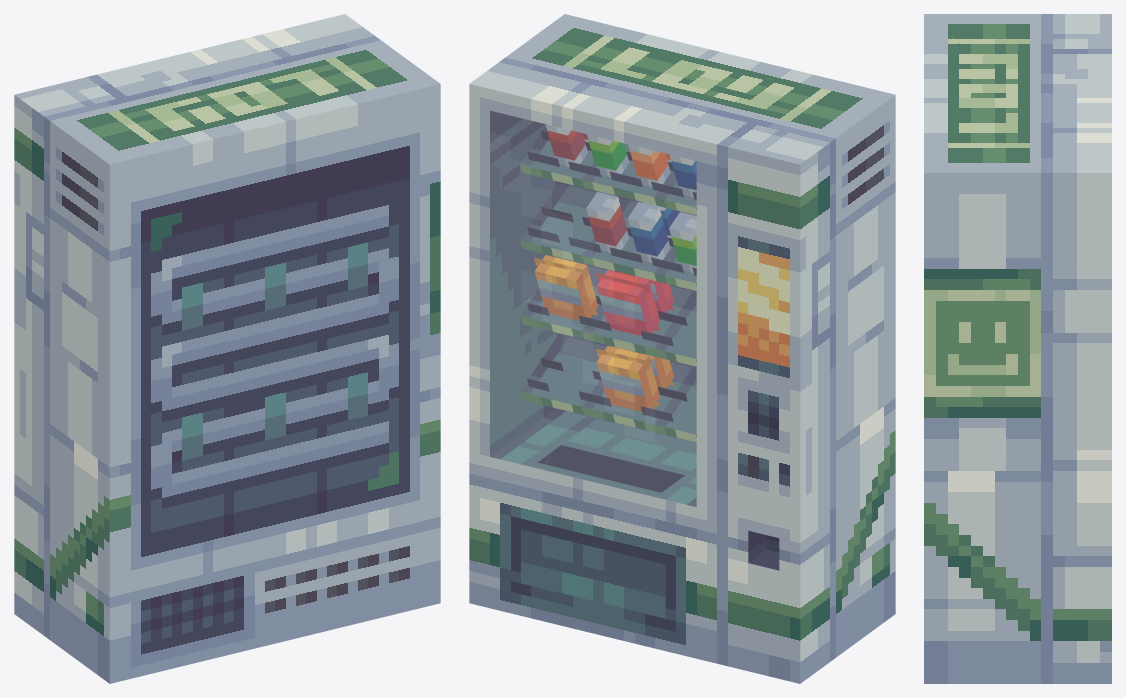
File: vending_machine.glb
The picture shows the model from 3 angles, left to right: view 1: azimuth 30°, elevation 25°; view 2: azimuth 150°, elevation 25°; view 3: azimuth 270°, elevation 25°; orthographic projection.
Parts seen in each view (by area): view 1: cube_0; view 2: cube_0, cube_3, cube_1, cube_2, cube_23, cube_22, cube_4, cube_5, cube_37, cube_42, cube_84, cube_40 (+12 smaller); view 3: cube_0.
Boxes of the visible parts, x1,y1,x2,y2 form: cube_0: [14, 14, 440, 683]; cube_0: [469, 14, 895, 683]; cube_3: [490, 111, 695, 506]; cube_1: [490, 110, 696, 506]; cube_2: [521, 529, 665, 618]; cube_23: [520, 333, 696, 442]; cube_22: [520, 182, 696, 290]; cube_4: [520, 257, 696, 366]; cube_5: [520, 126, 696, 215]; cube_37: [537, 445, 684, 492]; cube_42: [596, 270, 660, 335]; cube_84: [596, 346, 660, 411]; cube_40: [534, 255, 598, 320]; cube_0: [924, 14, 1111, 683].
Size of the model in its own units: 2 by 3 by 1.
Materials: 8 (8 with a texture image).
